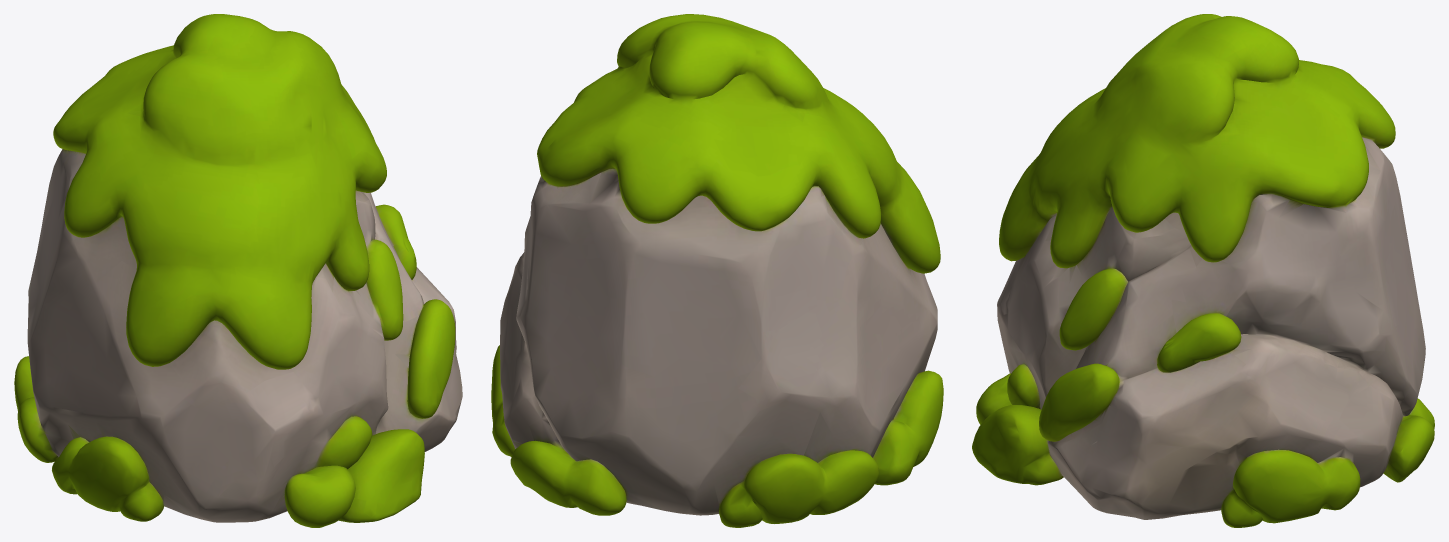
Rendered from rock_mossy.glb.
The picture shows the model from 3 angles, left to right: view 1: azimuth 30°, elevation 25°; view 2: azimuth 150°, elevation 25°; view 3: azimuth 270°, elevation 25°; orthographic projection. The views are drawn at different scales.
Parts seen in each view (by area): view 1: tripo_node_773c7dbe-6e37-4f21-a16e-9b837e29b7c6; view 2: tripo_node_773c7dbe-6e37-4f21-a16e-9b837e29b7c6; view 3: tripo_node_773c7dbe-6e37-4f21-a16e-9b837e29b7c6.
Boxes of the visible parts, <box> form: tripo_node_773c7dbe-6e37-4f21-a16e-9b837e29b7c6: <box>14,14,462,527</box>; tripo_node_773c7dbe-6e37-4f21-a16e-9b837e29b7c6: <box>491,14,943,527</box>; tripo_node_773c7dbe-6e37-4f21-a16e-9b837e29b7c6: <box>972,14,1434,527</box>.
Size of the model in its own units: 0.6634 by 0.7002 by 0.7054.
Materials: 1 (1 with a texture image).
